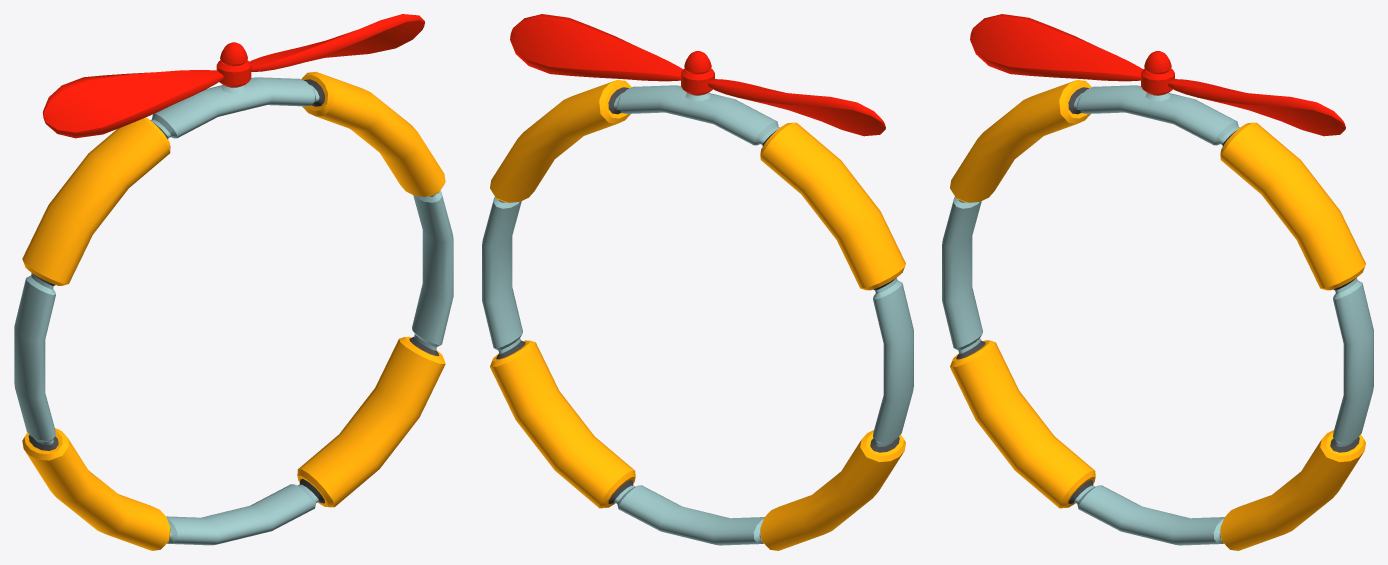
File: ring.glb
3 views of the same model, side by side, from view 1: azimuth 30°, elevation 25°; view 2: azimuth 150°, elevation 25°; view 3: azimuth 330°, elevation 25° (orthographic).
Visible parts, largest first — view 1: padding, ringBody, propeller; view 2: padding, ringBody, propeller; view 3: padding, ringBody, propeller.
Boxes of the visible parts, x1=… form: padding: x1=22, y1=71, x2=445, y2=550; ringBody: x1=14, y1=77, x2=453, y2=545; propeller: x1=42, y1=14, x2=424, y2=138; padding: x1=490, y1=80, x2=905, y2=550; ringBody: x1=482, y1=85, x2=913, y2=545; propeller: x1=510, y1=14, x2=885, y2=136; padding: x1=950, y1=80, x2=1365, y2=550; ringBody: x1=942, y1=85, x2=1373, y2=545; propeller: x1=970, y1=14, x2=1345, y2=136.
Bounding box in the file's own units: 5.21 × 5.71 × 0.7131.
Materials: 3 (3 with a texture image).
